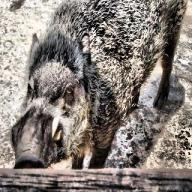boar: (10, 0, 191, 170)
